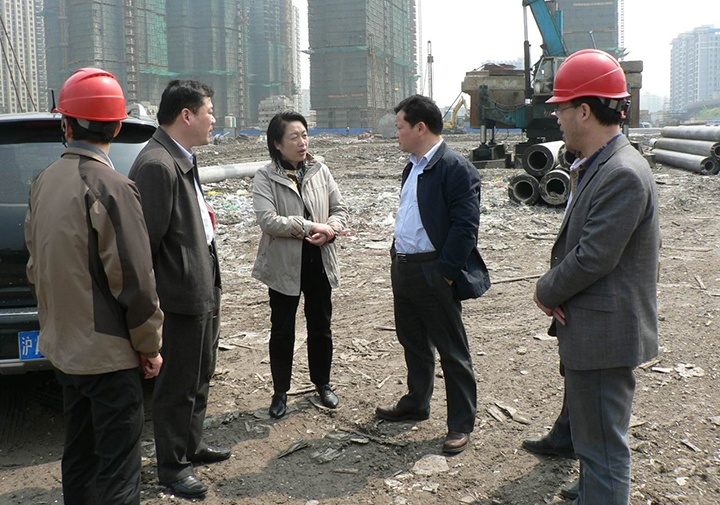none: (154, 79, 218, 148), (388, 92, 441, 154), (265, 109, 314, 165)
red: (549, 45, 631, 148), (51, 61, 128, 155)
